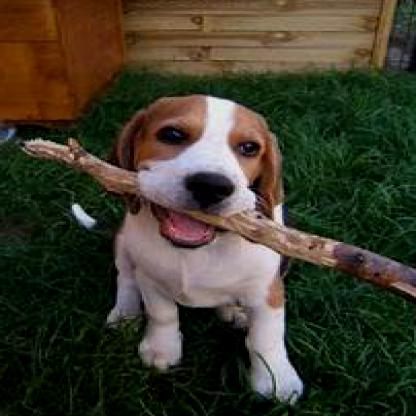dog: (103, 96, 307, 404)
